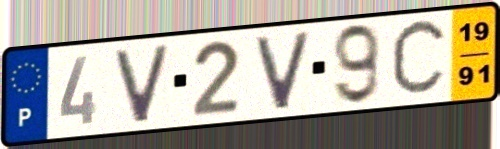2: (190, 37, 246, 120)
4: (57, 53, 99, 127)
9: (330, 22, 383, 108)
C: (388, 14, 452, 103)
V: (252, 28, 314, 113), (111, 42, 173, 126)
